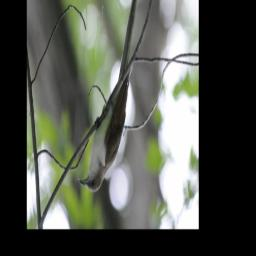Cuckoo: (79, 0, 140, 196)
